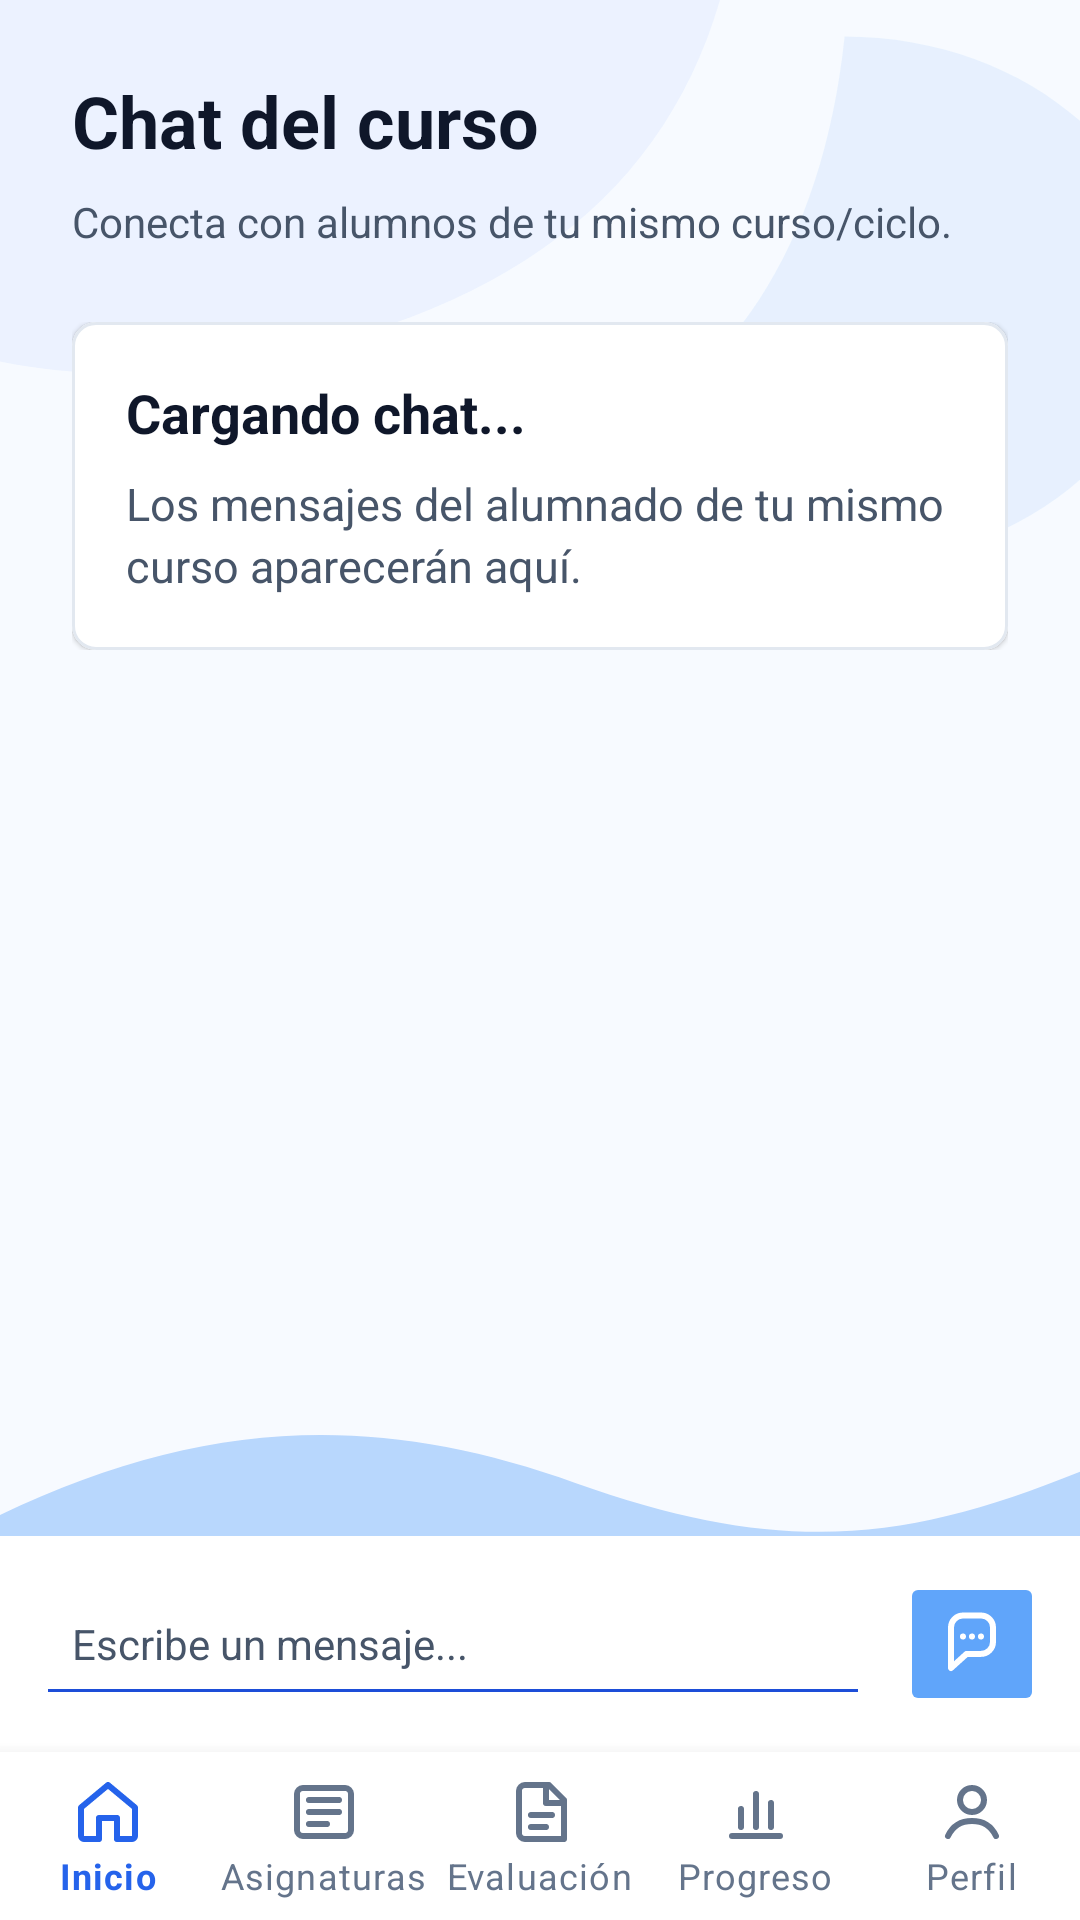

Named icons in this screenshot (1080w x 1920h) and their centers, (x,y):
Enviar mensaje: (972,1644)
